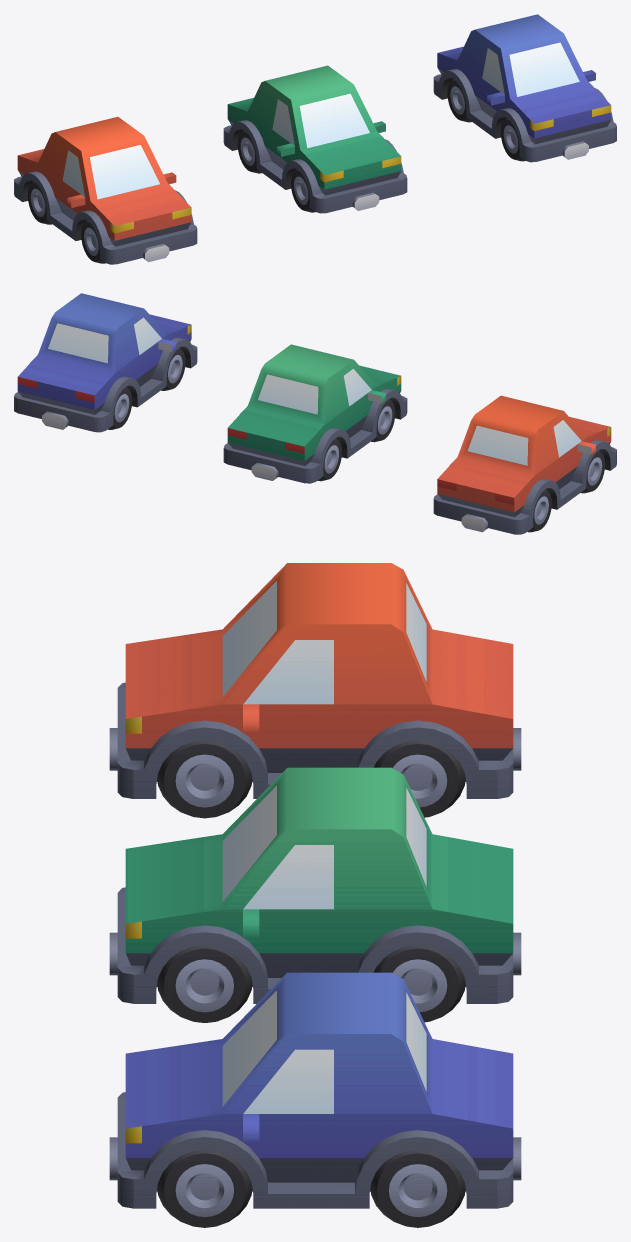
Rendered from Cars.glb.
The picture shows the model from 3 angles, top to bottom: view 1: azimuth 30°, elevation 25°; view 2: azimuth 150°, elevation 25°; view 3: azimuth 270°, elevation 25°; orthographic projection. The views are drawn at different scales.
Visible parts, largest first — view 1: Car_Green, Car_Red, Car_Blue; view 2: Car_Green, Car_Red, Car_Blue; view 3: Car_Blue, Car_Green, Car_Red.
Boxes of the visible parts, x1,y1,x2,y2 form: Car_Green: [223, 65, 407, 213]; Car_Red: [14, 116, 197, 264]; Car_Blue: [433, 14, 616, 162]; Car_Green: [223, 344, 407, 483]; Car_Red: [433, 395, 616, 534]; Car_Blue: [14, 293, 197, 432]; Car_Blue: [109, 972, 521, 1227]; Car_Green: [109, 767, 521, 1022]; Car_Red: [109, 563, 521, 818].
Bounding box in the file's own units: 7.5 × 1.3 × 2.55.
Materials: 1 (1 with a texture image).
